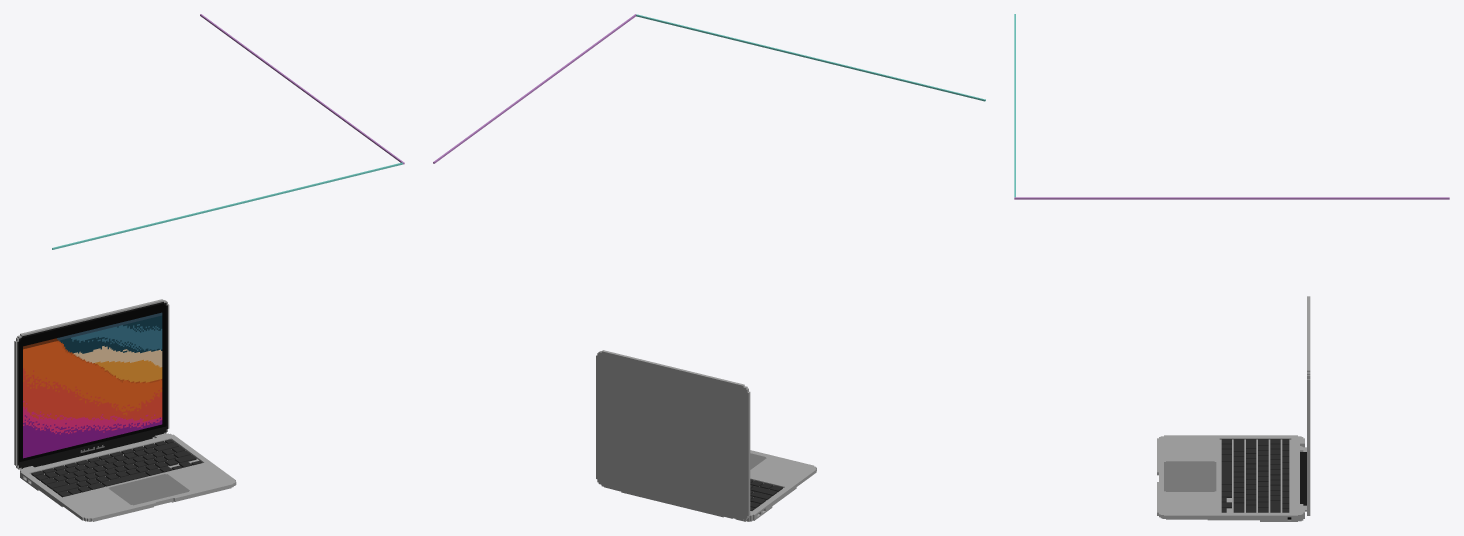
Rendered from macbook.obj.
The picture shows the model from 3 angles, left to right: view 1: azimuth 30°, elevation 25°; view 2: azimuth 150°, elevation 25°; view 3: azimuth 270°, elevation 25°; orthographic projection. The views are drawn at different scales.
Size of the model in its own units: 25 by 23.8 by 25.
Materials: 1 (1 with a texture image).
